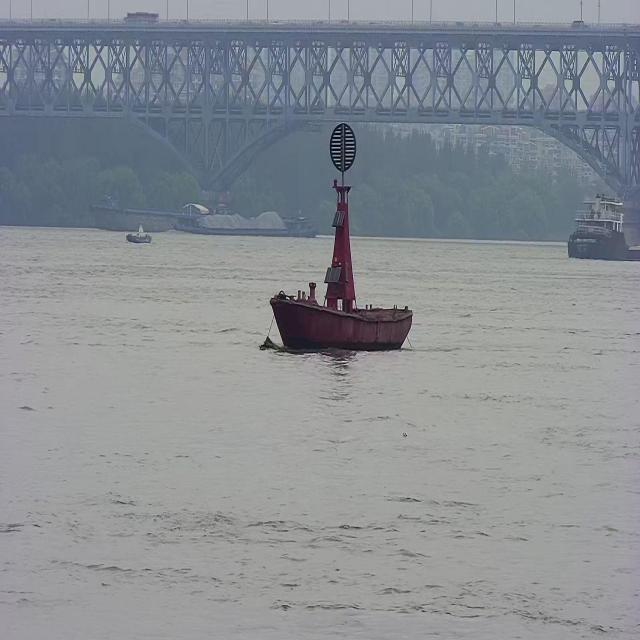ship2: (271, 124, 412, 350)
